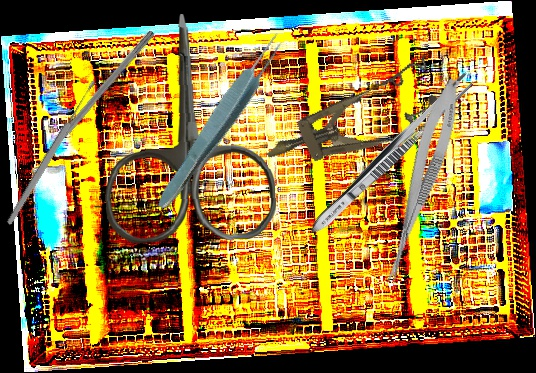Dressing Forceps: (305, 68, 478, 240)
Iris Scissors: (99, 11, 277, 244)
Micro Scissor: (377, 74, 468, 293)
Pusher: (32, 28, 156, 168)
Speculum: (254, 55, 450, 187)
Surgical Spoon: (4, 78, 99, 227)
Tissue Forceps: (149, 27, 293, 216)
